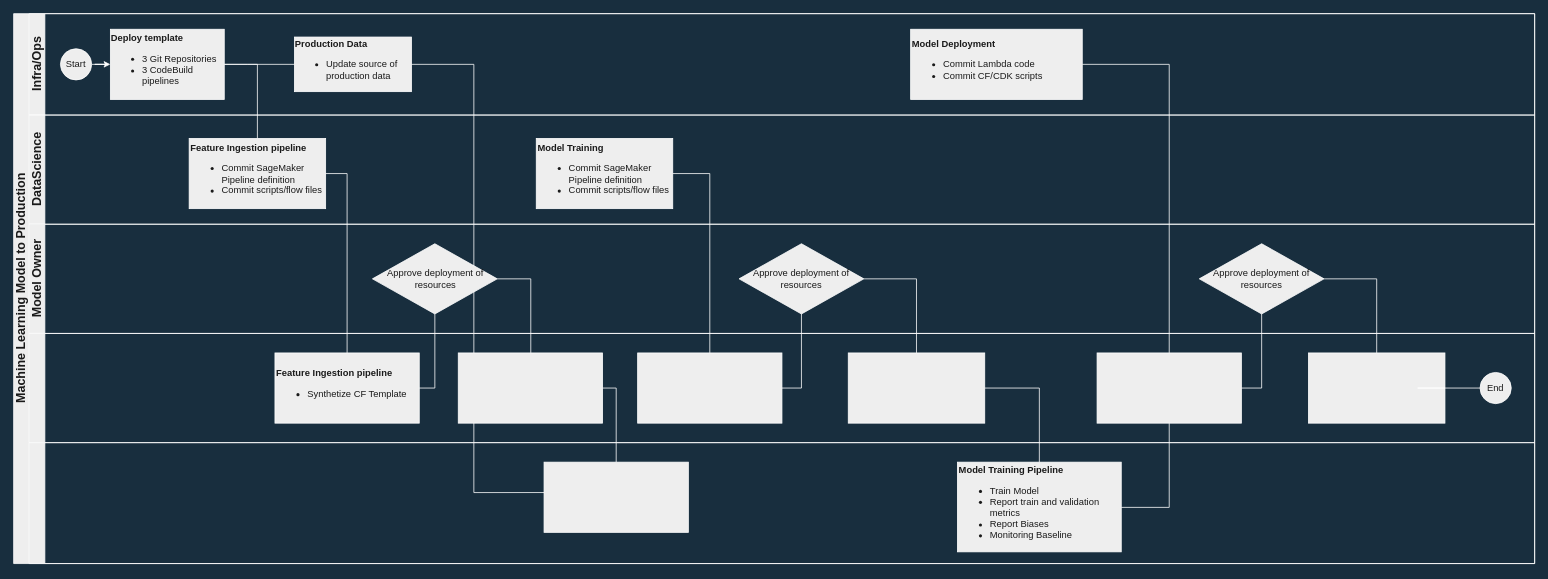
The diagram is 1548 pixels wide and 579 high, and some of its shapes have lost their labels. The box of each missing label's shape, as (x1, y1, x2, y2) in pixels:
CodeBuild: (28, 333, 1535, 443)
Feature Ingestion pipeline Deploy CF Template: (457, 352, 603, 423)
Feature Ingestion pipeline Update features in FeatureStore: (543, 461, 688, 532)
Model Deployment Deploy CF Template: (1308, 352, 1445, 423)
Model Deployment Synthetize CF Template: (1096, 352, 1241, 423)
Model Training Pipeline Deploy CF Template: (847, 352, 985, 423)
Model Training Pipeline Synthetize CF Template: (637, 352, 782, 423)
SageMaker Pipelines: (28, 442, 1535, 564)
